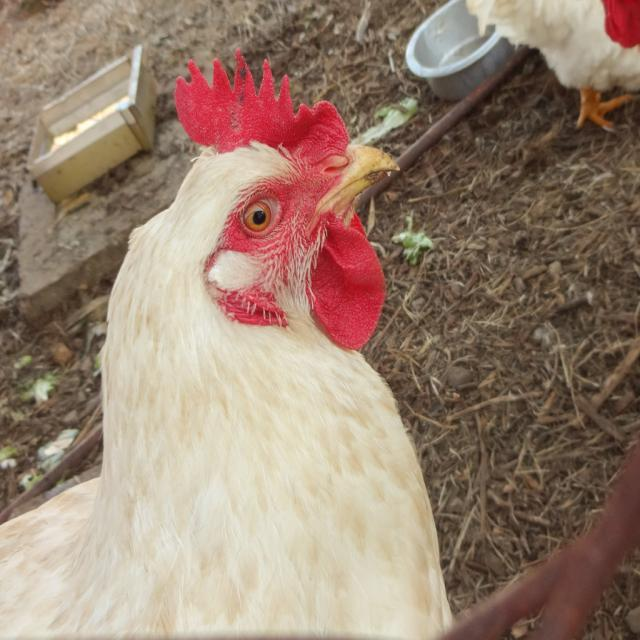Chicken: (0, 46, 454, 640), (461, 0, 640, 133)
